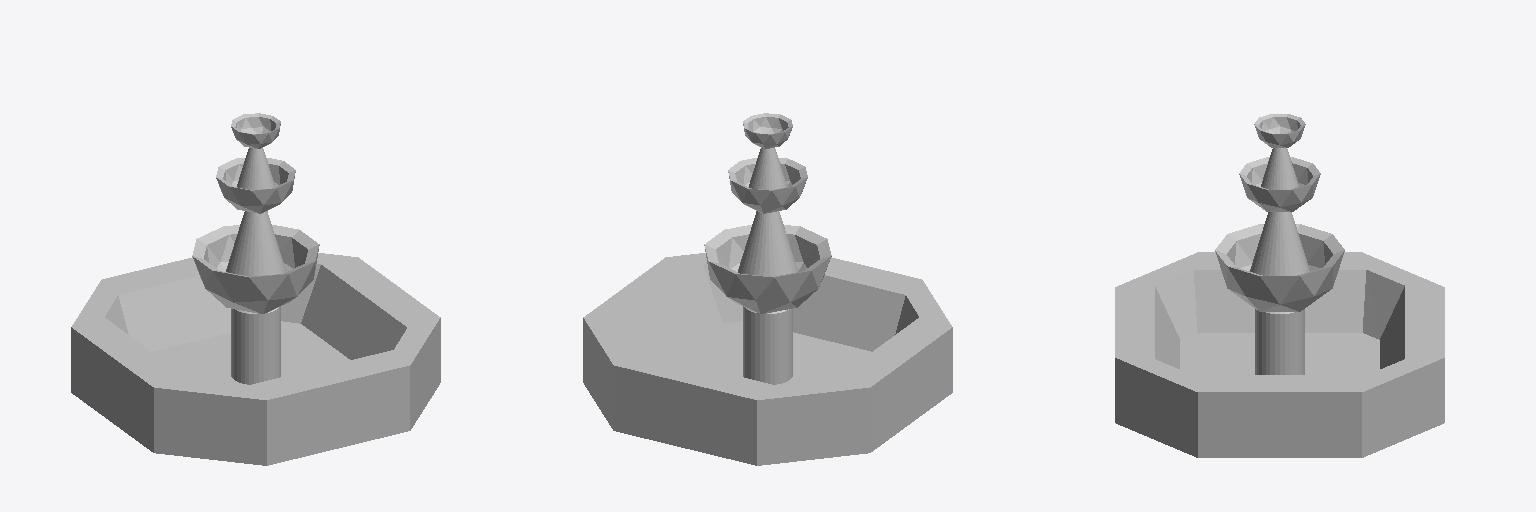
Rendered from Fountain.obj.
The picture shows the model from 3 angles: view 1: azimuth 30°, elevation 25°; view 2: azimuth 150°, elevation 25°; view 3: azimuth 270°, elevation 25°; orthographic projection.
Visible parts, largest first — view 1: Fountain_Cube.007; view 2: Fountain_Cube.007; view 3: Fountain_Cube.007.
Part boxes in pixels (x1,y1,x2,y2): Fountain_Cube.007: (71,113,440,465); Fountain_Cube.007: (583,113,952,465); Fountain_Cube.007: (1115,114,1444,457).
Size of the model in its own units: 2.4 by 2.11 by 2.39.